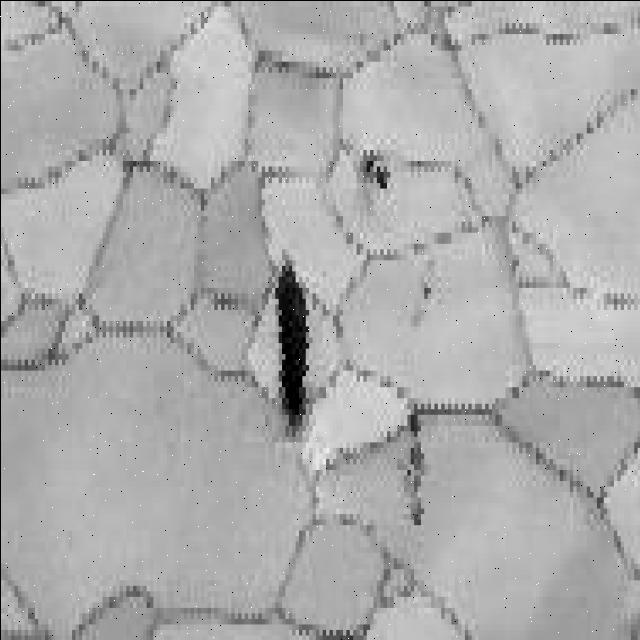good_void: (273, 260, 313, 437), (397, 442, 424, 519), (356, 140, 394, 192), (401, 395, 423, 437), (419, 281, 435, 304)
